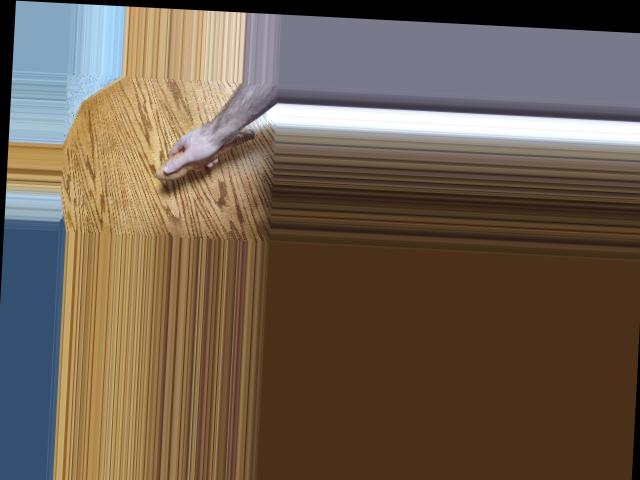sweet_potato: (153, 122, 272, 187)
